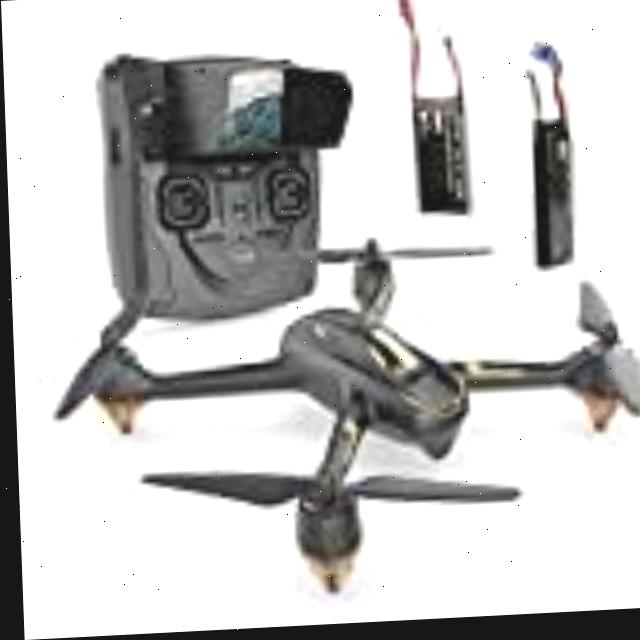drone: (26, 234, 640, 622)
